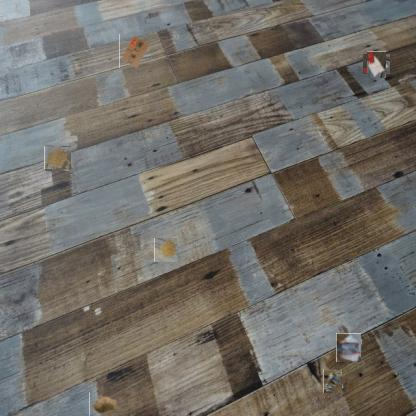dirty: (119, 34, 150, 68), (89, 392, 122, 416), (335, 334, 362, 361), (365, 53, 388, 76), (322, 371, 344, 392)
liquid: (45, 145, 70, 170), (154, 238, 177, 262)
